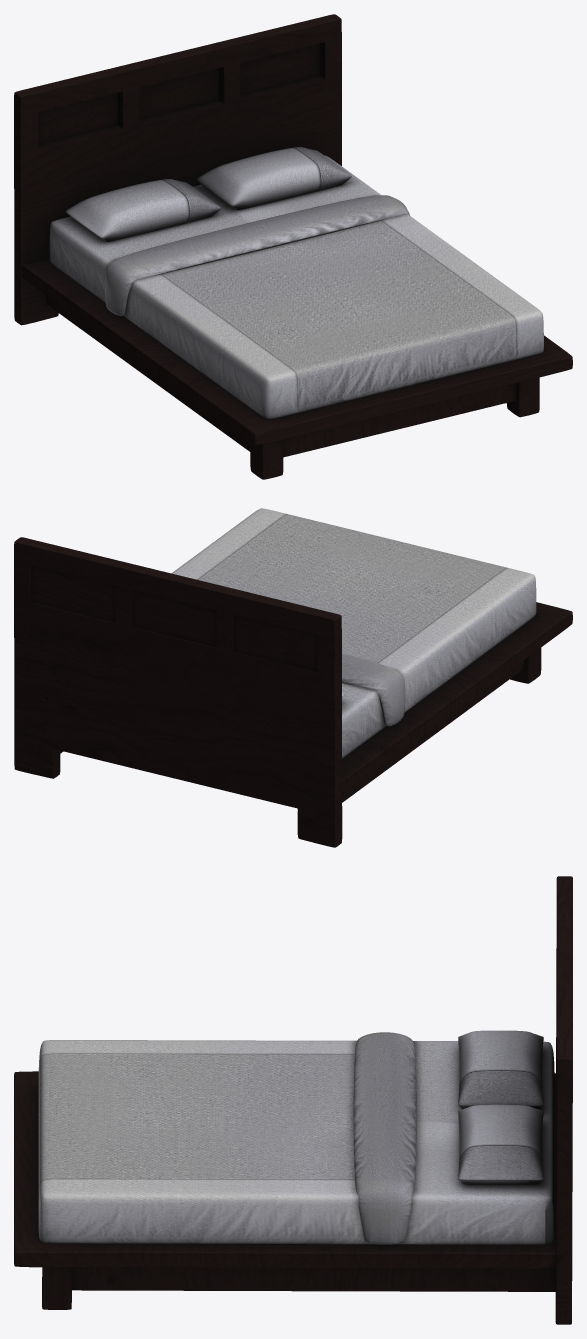
The model's file is cama3.obj.
3 renders of one model, top to bottom at view 1: azimuth 30°, elevation 25°; view 2: azimuth 150°, elevation 25°; view 3: azimuth 270°, elevation 25°, orthographic. The views are drawn at different scales.
Visible parts, largest first — view 1: 10236_Master_Bed_King_Size_v1_L3b; view 2: 10236_Master_Bed_King_Size_v1_L3b; view 3: 10236_Master_Bed_King_Size_v1_L3b.
Boxes of the visible parts, x1=… form: 10236_Master_Bed_King_Size_v1_L3b: x1=14, y1=14, x2=572, y2=479; 10236_Master_Bed_King_Size_v1_L3b: x1=14, y1=508, x2=572, y2=847; 10236_Master_Bed_King_Size_v1_L3b: x1=14, y1=876, x2=572, y2=1324.
Bounding box in the file's own units: 175 × 119 × 226.
1 material, 1 textured.
